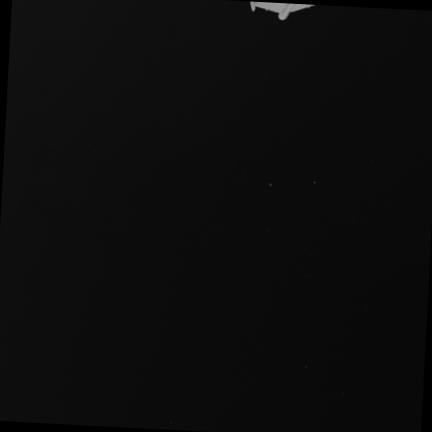Shahed: (248, 2, 314, 22)
